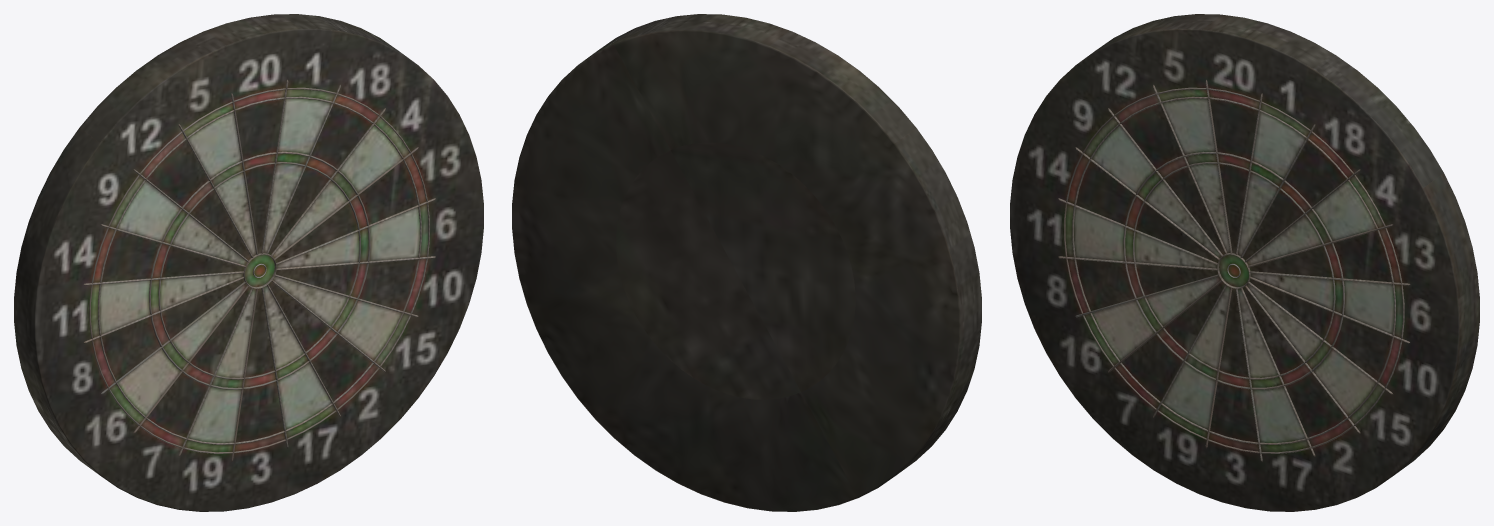
File: dartboard.glb
The picture shows the model from 3 angles, left to right: view 1: azimuth 30°, elevation 25°; view 2: azimuth 150°, elevation 25°; view 3: azimuth 330°, elevation 25°; orthographic projection.
Parts seen in each view (by area): view 1: dartboard_0; view 2: dartboard_0; view 3: dartboard_0.
Part boxes in pixels (x1,y1,x2,y2): dartboard_0: [14, 14, 483, 511]; dartboard_0: [512, 14, 981, 511]; dartboard_0: [1010, 14, 1479, 511].
Bounding box in the file's own units: 0.4507 × 0.4507 × 0.0398.
Materials: 1 (1 with a texture image).
